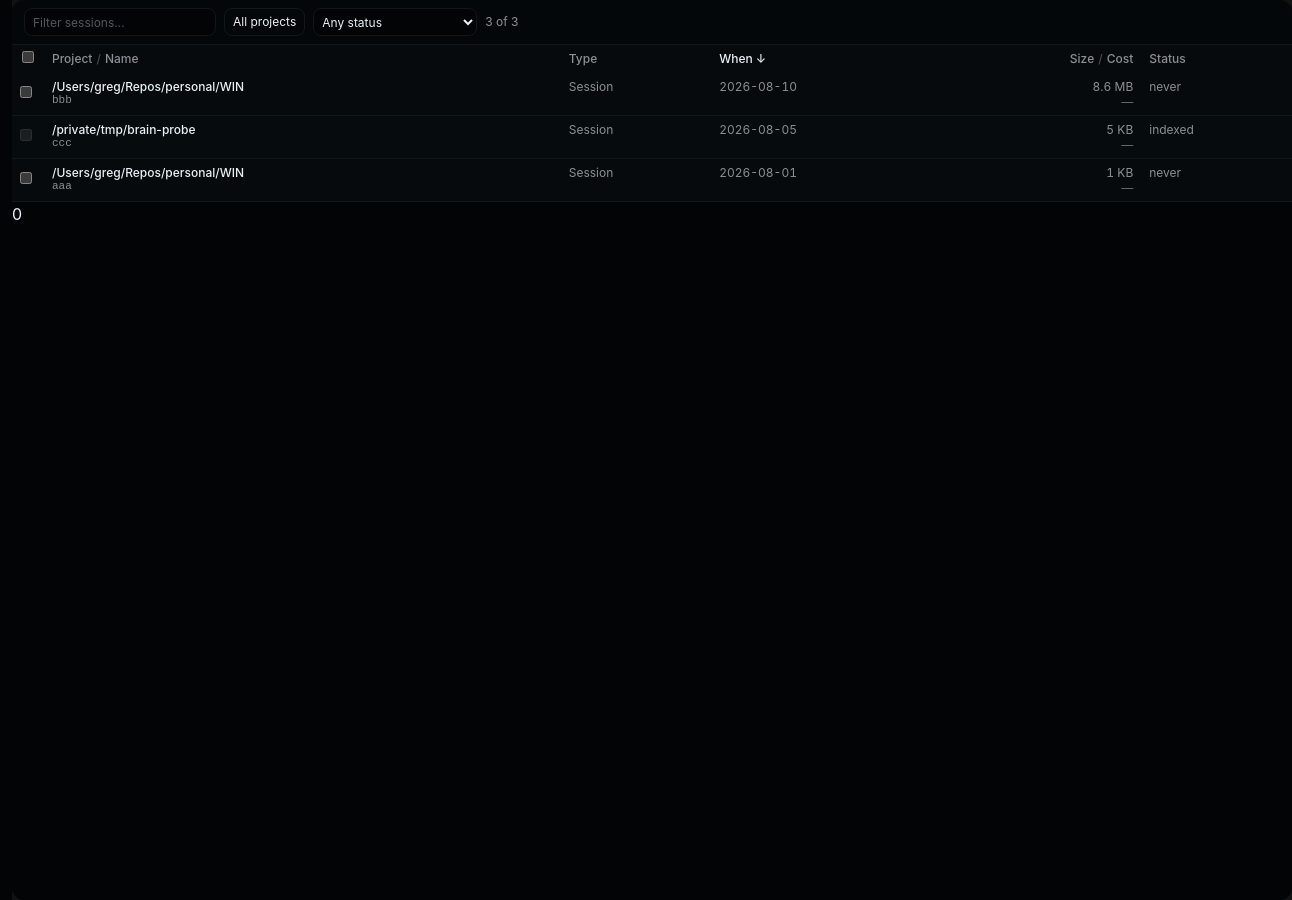
Test case: BrainSourcesTable › select-all skips the rows that cannot be selected
Click the checkbox named "select all shown" at {"x": 28, "y": 57}, box [22,51,34,63]
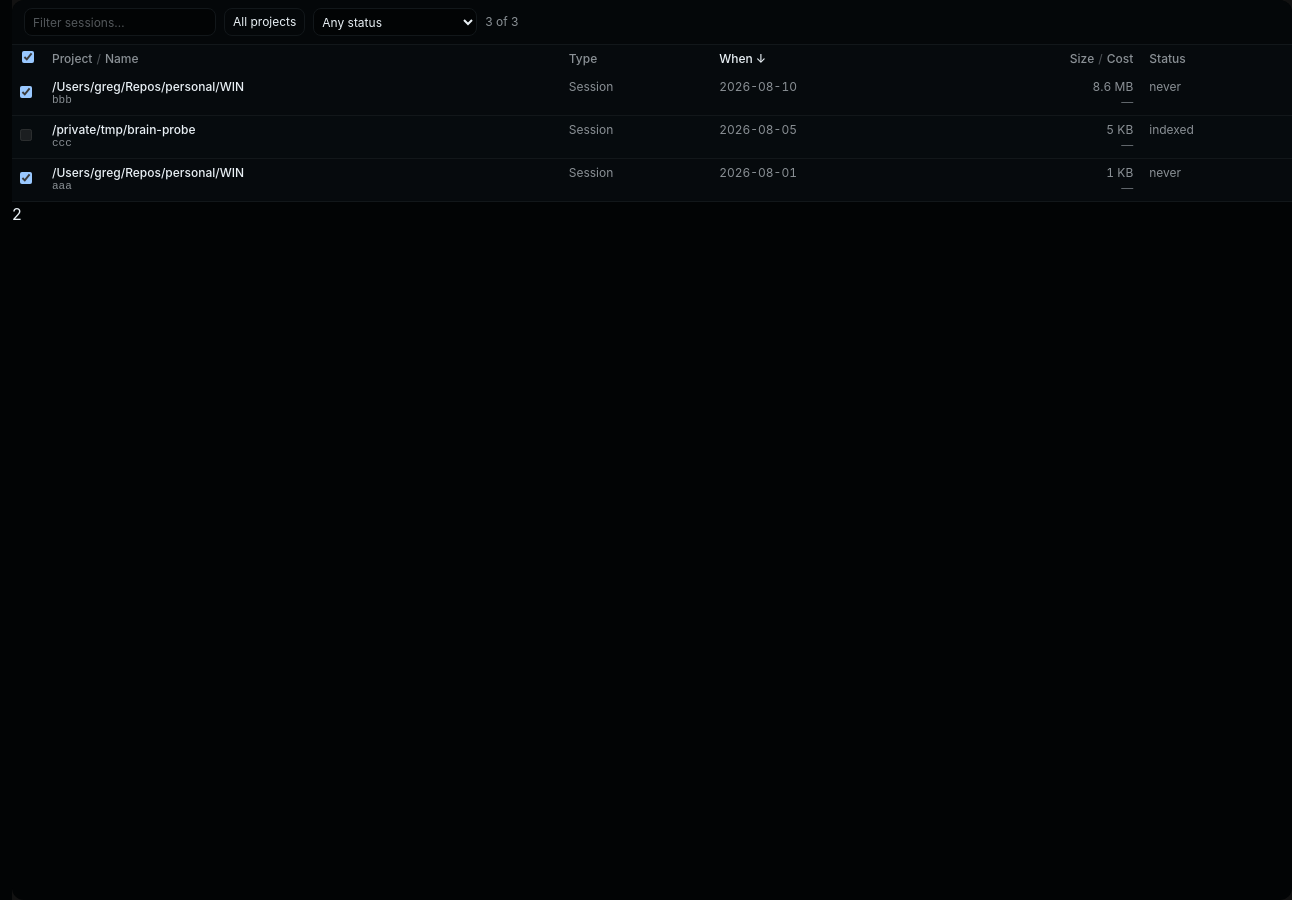
Check: the text with test id "count" reads "2", box [12,204,22,224]
